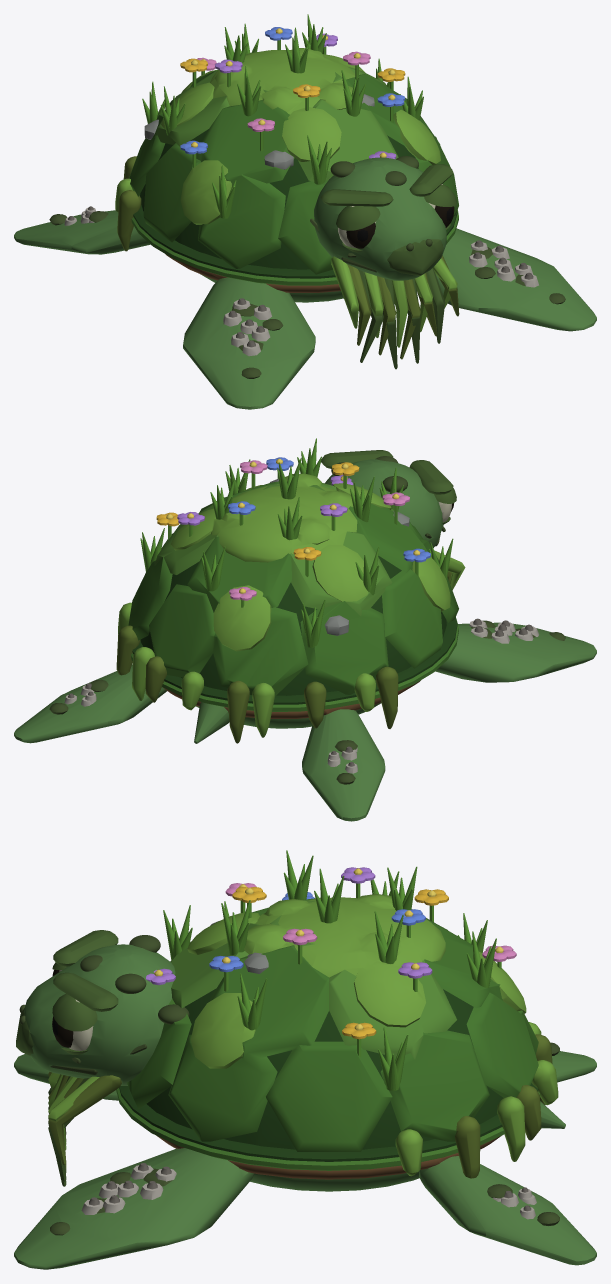
File: verdatide.glb
3 renders of one model, top to bottom at view 1: azimuth 30°, elevation 25°; view 2: azimuth 150°, elevation 25°; view 3: azimuth 270°, elevation 25°, orthographic. The views are drawn at different scales.
Visible parts, largest first — view 1: creature; view 2: creature; view 3: creature.
Boxes of the visible parts, x1,y1,x2,y2 form: creature: (14, 14, 596, 409); creature: (14, 438, 596, 821); creature: (14, 850, 596, 1269).
Size of the model in its own units: 1.51 by 1 by 1.72.
